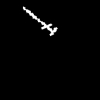double_crochet: (23, 7, 56, 35)
